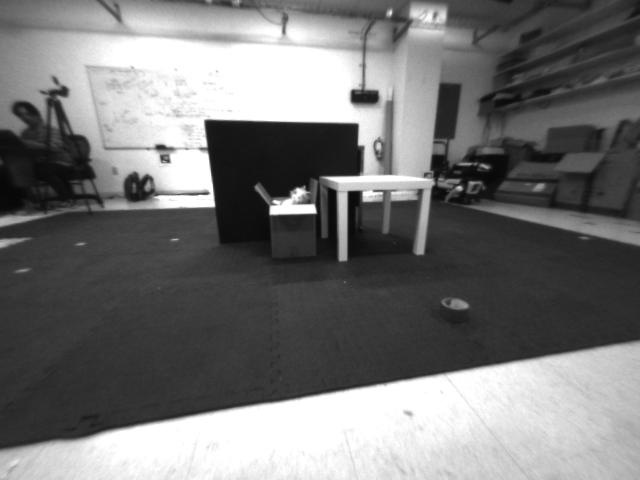dogtoy: (428, 280, 479, 337)
